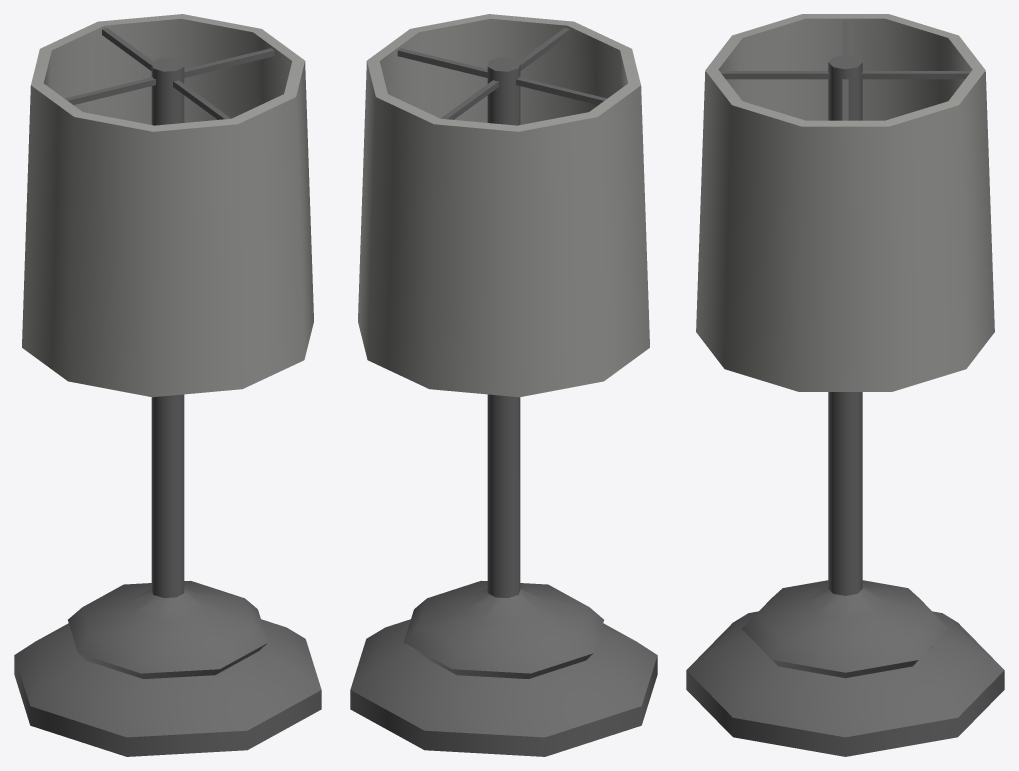
The model's file is Light_Floor4.glb.
The picture shows the model from 3 angles, left to right: view 1: azimuth 30°, elevation 25°; view 2: azimuth 150°, elevation 25°; view 3: azimuth 270°, elevation 25°; orthographic projection.
Parts seen in each view (by area): view 1: Light_Floor4; view 2: Light_Floor4; view 3: Light_Floor4.
Boxes of the visible parts, x1,y1,x2,y2 form: Light_Floor4: (14,14,321,756); Light_Floor4: (350,14,657,756); Light_Floor4: (686,14,1004,756).
Bounding box in the file's own units: 0.1715 × 0.3732 × 0.1715.
2 materials, 2 textured.
